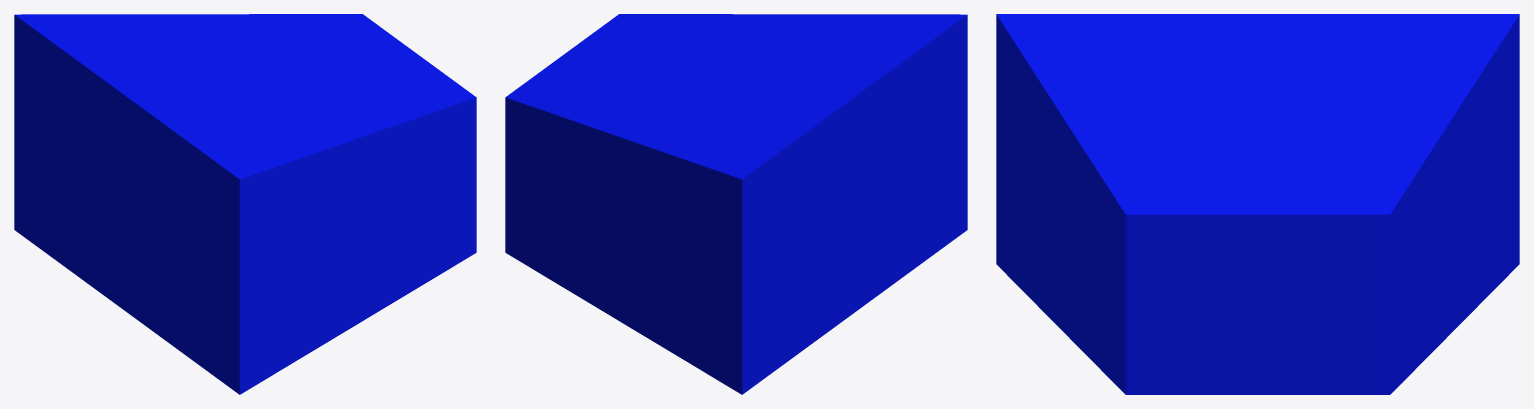
File: obj_Pylon_001.FBX
3 renders of one model, left to right at view 1: azimuth 30°, elevation 25°; view 2: azimuth 150°, elevation 25°; view 3: azimuth 270°, elevation 25°, orthographic. The views are drawn at different scales.
Visible parts, largest first — view 1: mesh_Pylon_001; view 2: mesh_Pylon_001; view 3: mesh_Pylon_001.
Part boxes in pixels (x1,y1,x2,y2): mesh_Pylon_001: (14,14,476,394); mesh_Pylon_001: (505,14,967,394); mesh_Pylon_001: (996,14,1519,394).
Size of the model in its own units: 395 by 278 by 527.
